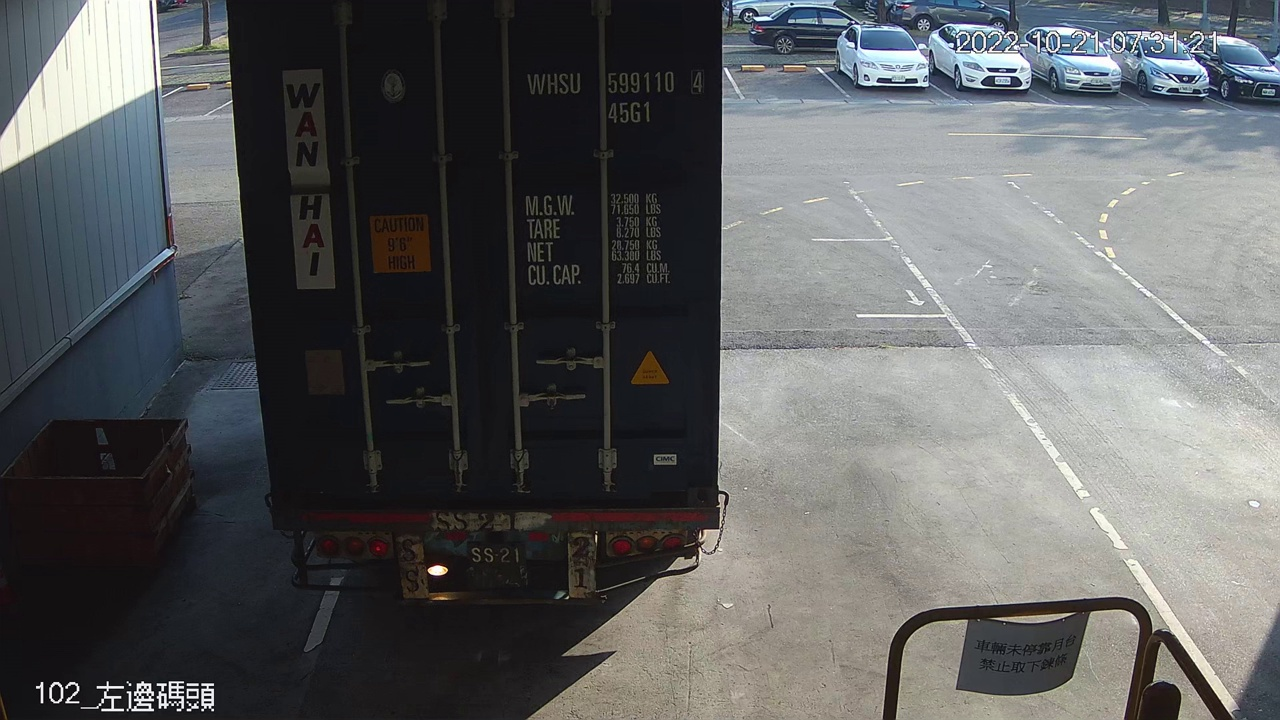container: (520, 64, 712, 129)
